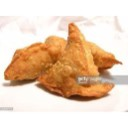samosa: (53, 23, 114, 95), (5, 42, 61, 81)
